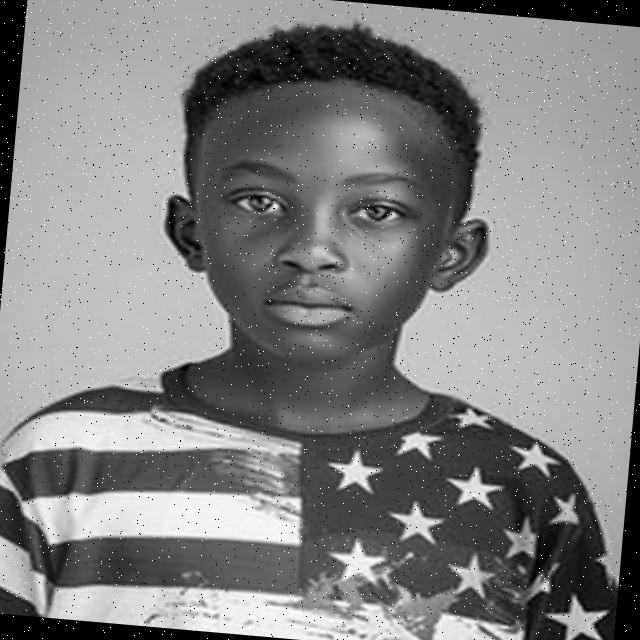Neutral: (182, 82, 462, 372)
